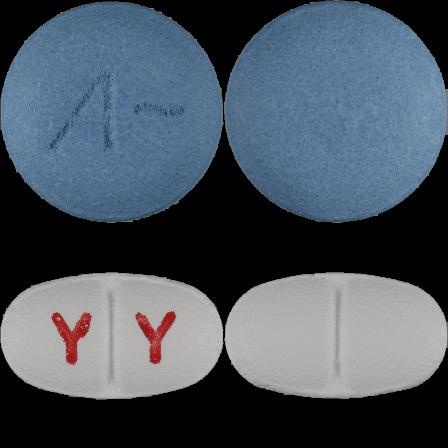0024-5521: (0, 0, 224, 224)
